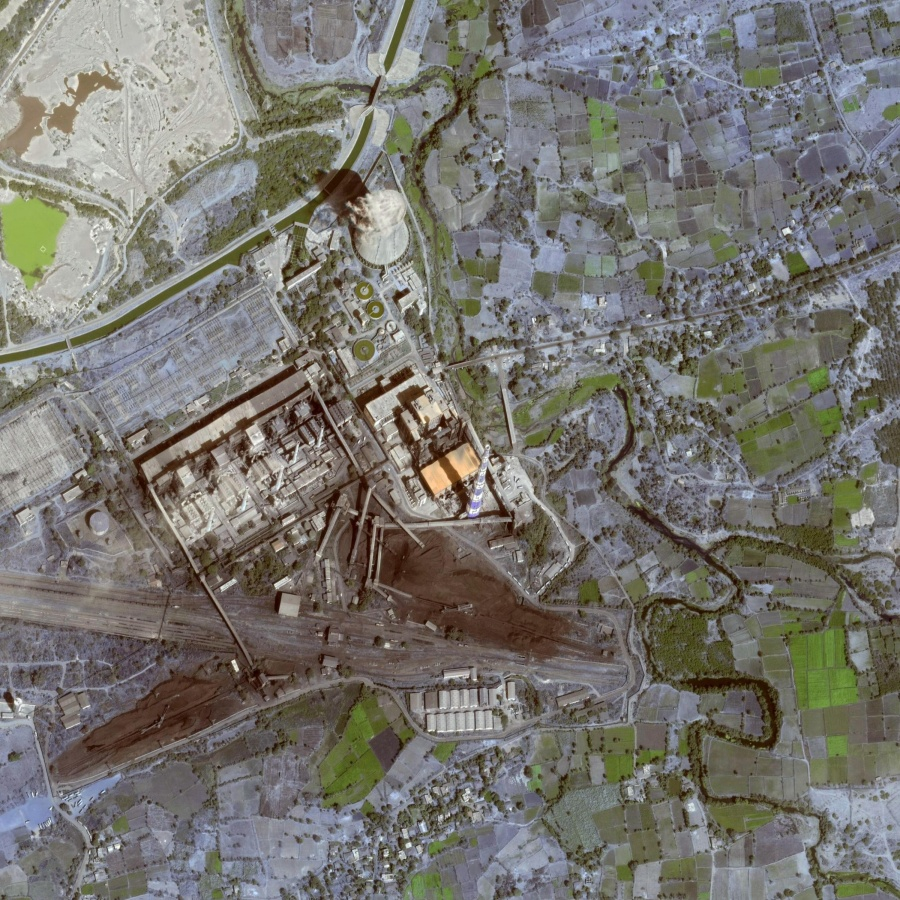PowerPlant: (48, 190, 602, 779)
